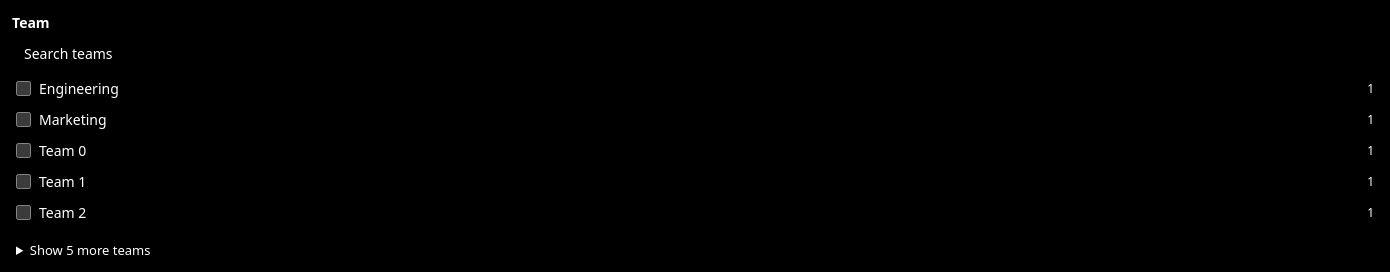
it: facet option search › says so when nothing matches
The image size is (1390, 272).
In the search field labelled "Search teams": (695, 53) left=12, top=33, right=1378, bottom=73, type "atlantis"
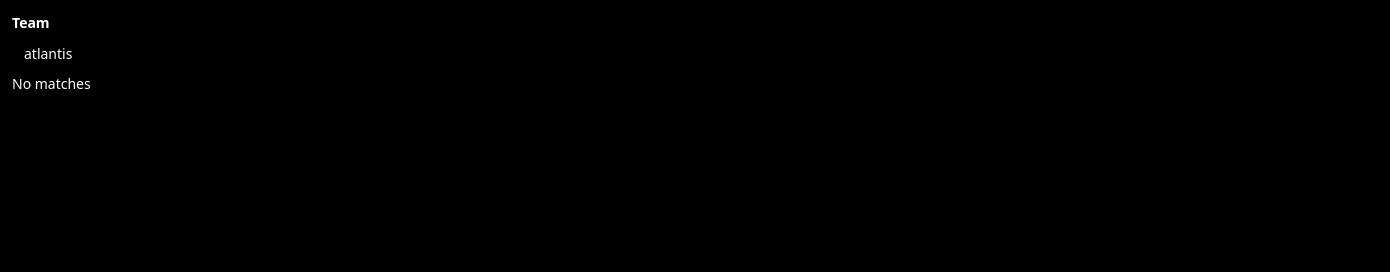
Expected: the text "No matches" is shown, left=12, top=74, right=91, bottom=93
Expected: the checkbox is gone
